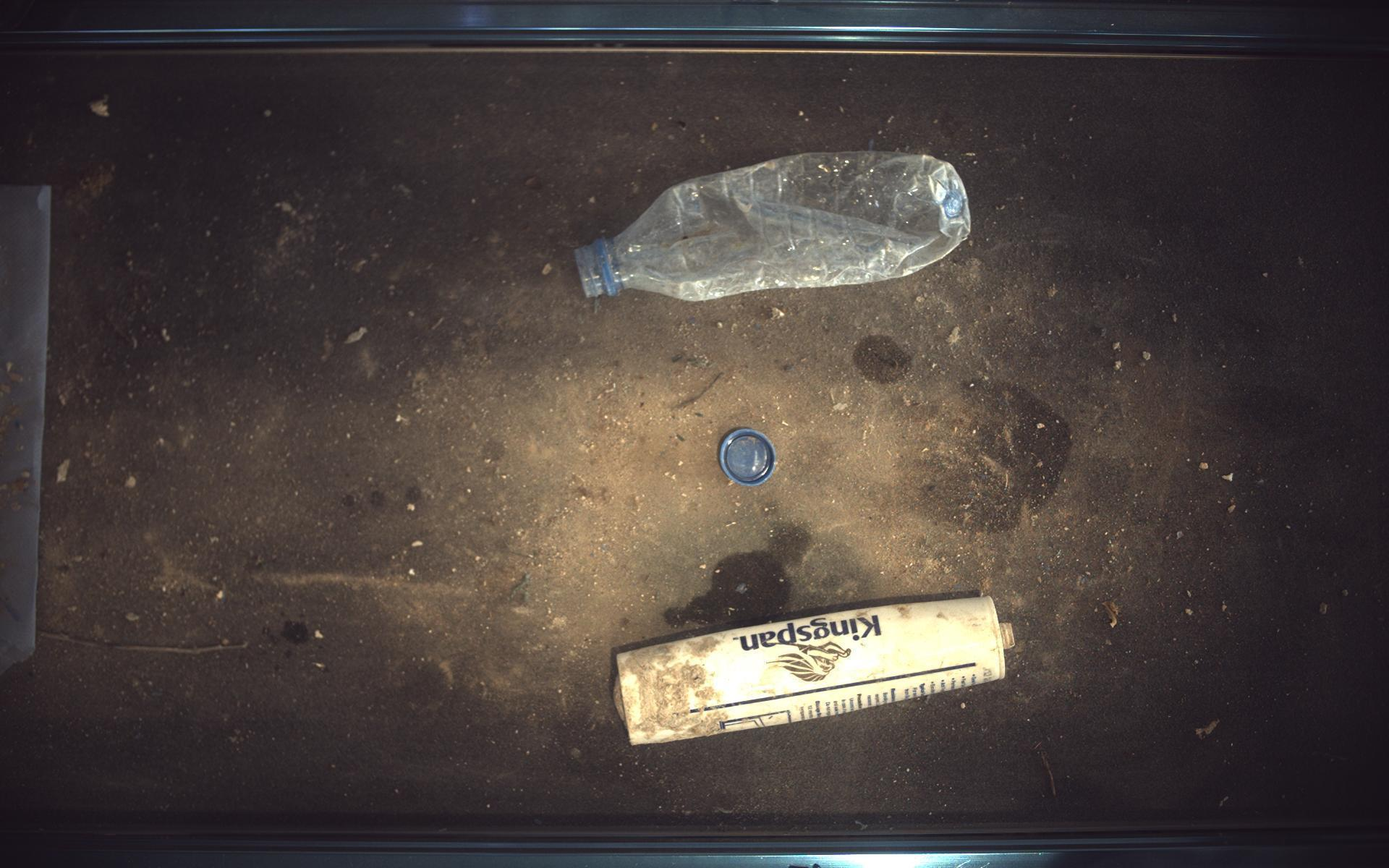general_w: (575, 150, 972, 300), (720, 428, 778, 488)
plastic: (616, 597, 1016, 746)
